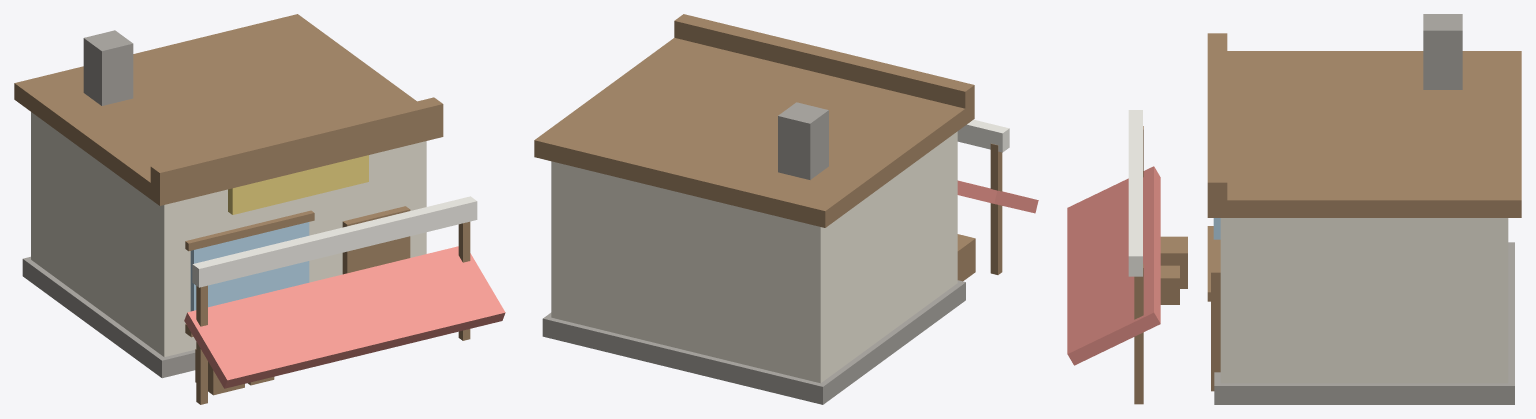
File: shop.glb
The picture shows the model from 3 angles, left to right: view 1: azimuth 30°, elevation 25°; view 2: azimuth 150°, elevation 25°; view 3: azimuth 270°, elevation 25°; orthographic projection. The views are drawn at different scales.
Parts seen in each view (by area): view 1: shop; view 2: shop; view 3: shop.
Boxes of the visible parts, <box> form: shop: <box>14,14,505,404</box>; shop: <box>534,14,1038,404</box>; shop: <box>1067,14,1521,404</box>.
Size of the model in its own units: 5.4 by 4.5 by 6.94.
